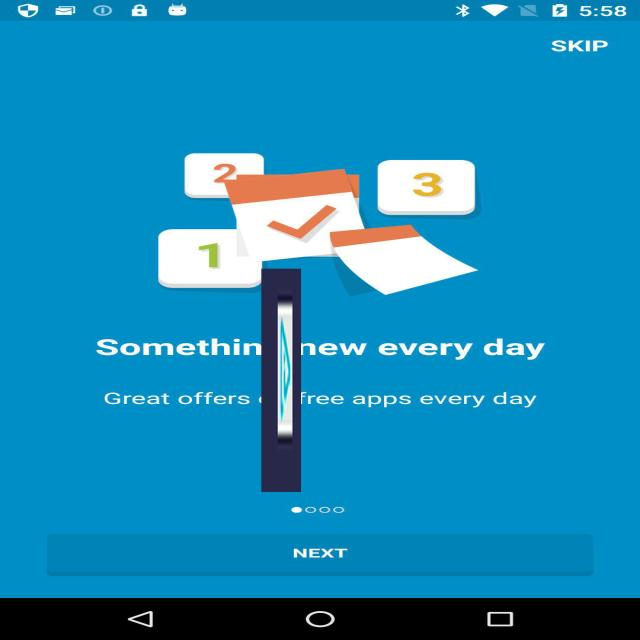sneaking: (261, 269, 301, 492)
